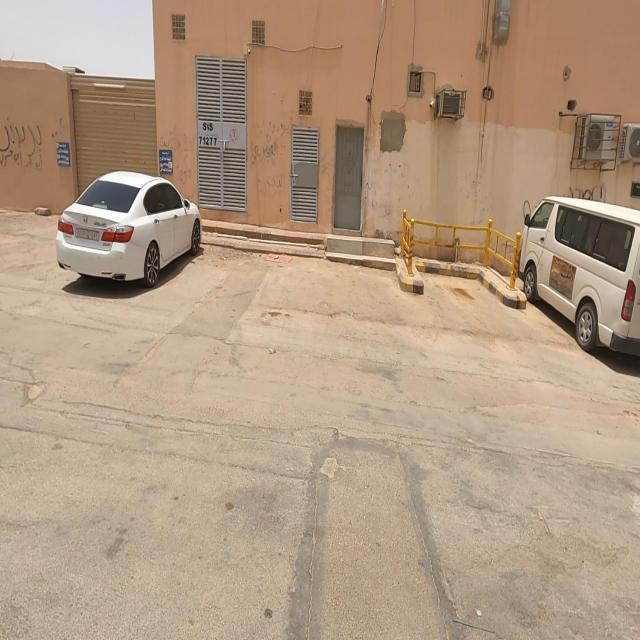debris: (0, 82, 69, 220)
